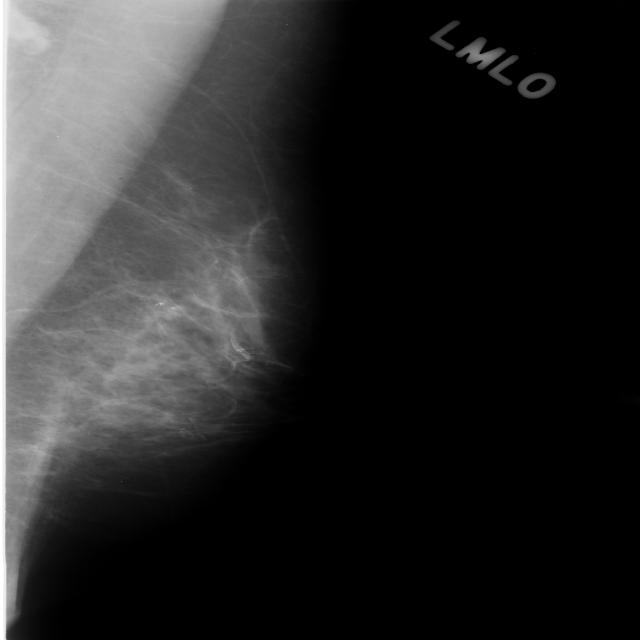cancer: (105, 240, 264, 478)
